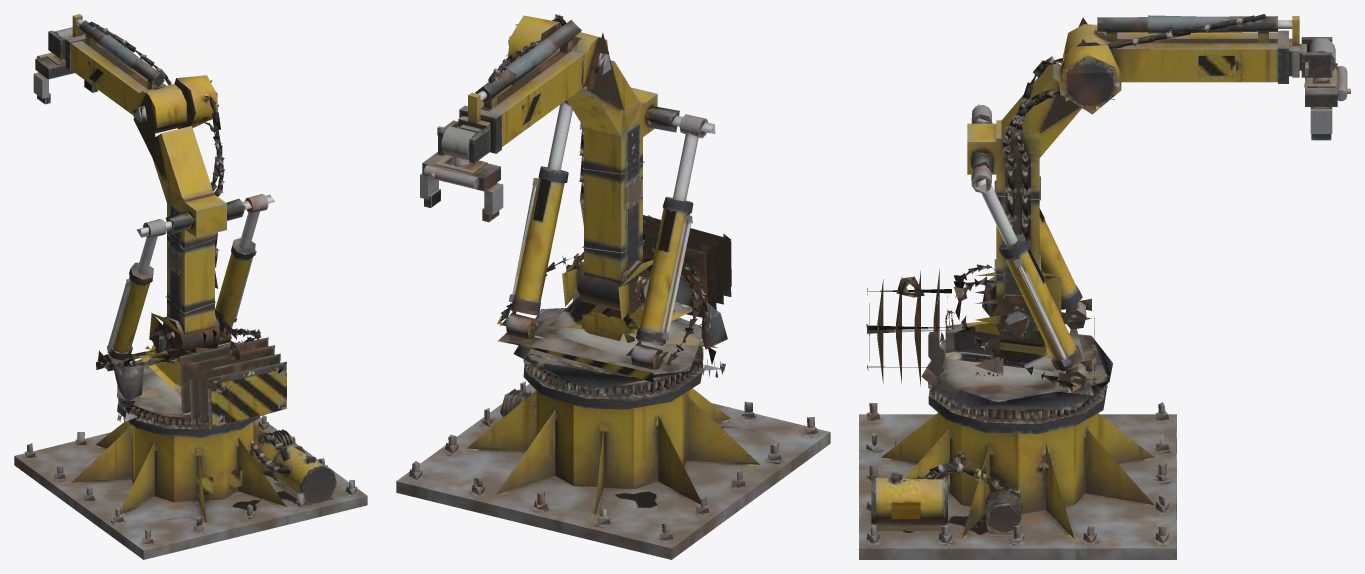
File: braco_longo.glb
The picture shows the model from 3 angles, left to right: view 1: azimuth 30°, elevation 25°; view 2: azimuth 150°, elevation 25°; view 3: azimuth 270°, elevation 25°; orthographic projection. The views are drawn at different scales.
Visible parts, largest first — view 1: braco_longo_base, braco_longo_braco1, braco_longo_giro, braco_longo_braco2, braco_longo_camisa, braco_longo_haste, braco_longo_garra; view 2: braco_longo_base, braco_longo_giro, braco_longo_braco1, braco_longo_camisa, braco_longo_braco2, braco_longo_garra, braco_longo_haste, braco_longo_estagio3, braco_longo_estagio2; view 3: braco_longo_base, braco_longo_giro, braco_longo_braco1, braco_longo_braco2, braco_longo_camisa, braco_longo_garra, braco_longo_haste, braco_longo_estagio3, braco_longo_estagio2.
Boxes of the visible parts, x1,y1,x2,y2 form: braco_longo_base: [14, 398, 367, 559]; braco_longo_braco1: [132, 75, 274, 357]; braco_longo_giro: [96, 309, 286, 429]; braco_longo_braco2: [65, 20, 187, 133]; braco_longo_camisa: [104, 238, 256, 370]; braco_longo_haste: [137, 194, 268, 274]; braco_longo_garra: [33, 27, 97, 104]; braco_longo_base: [396, 346, 830, 559]; braco_longo_giro: [497, 215, 731, 390]; braco_longo_braco1: [506, 14, 715, 313]; braco_longo_camisa: [505, 166, 693, 369]; braco_longo_braco2: [459, 20, 608, 153]; braco_longo_garra: [420, 126, 503, 222]; braco_longo_haste: [547, 100, 708, 201]; braco_longo_estagio3: [437, 120, 489, 163]; braco_longo_estagio2: [458, 91, 490, 149]; braco_longo_base: [859, 382, 1176, 559]; braco_longo_giro: [866, 264, 1112, 409]; braco_longo_braco1: [967, 18, 1121, 338]; braco_longo_braco2: [1063, 14, 1289, 83]; braco_longo_camisa: [999, 208, 1086, 390]; braco_longo_garra: [1304, 38, 1350, 140]; braco_longo_haste: [971, 105, 1017, 245]; braco_longo_estagio3: [1299, 37, 1332, 77]; braco_longo_estagio2: [1278, 16, 1299, 77].
Bounding box in the file's own units: 0.88 × 1.46 × 1.36.
1 material, 1 textured.
